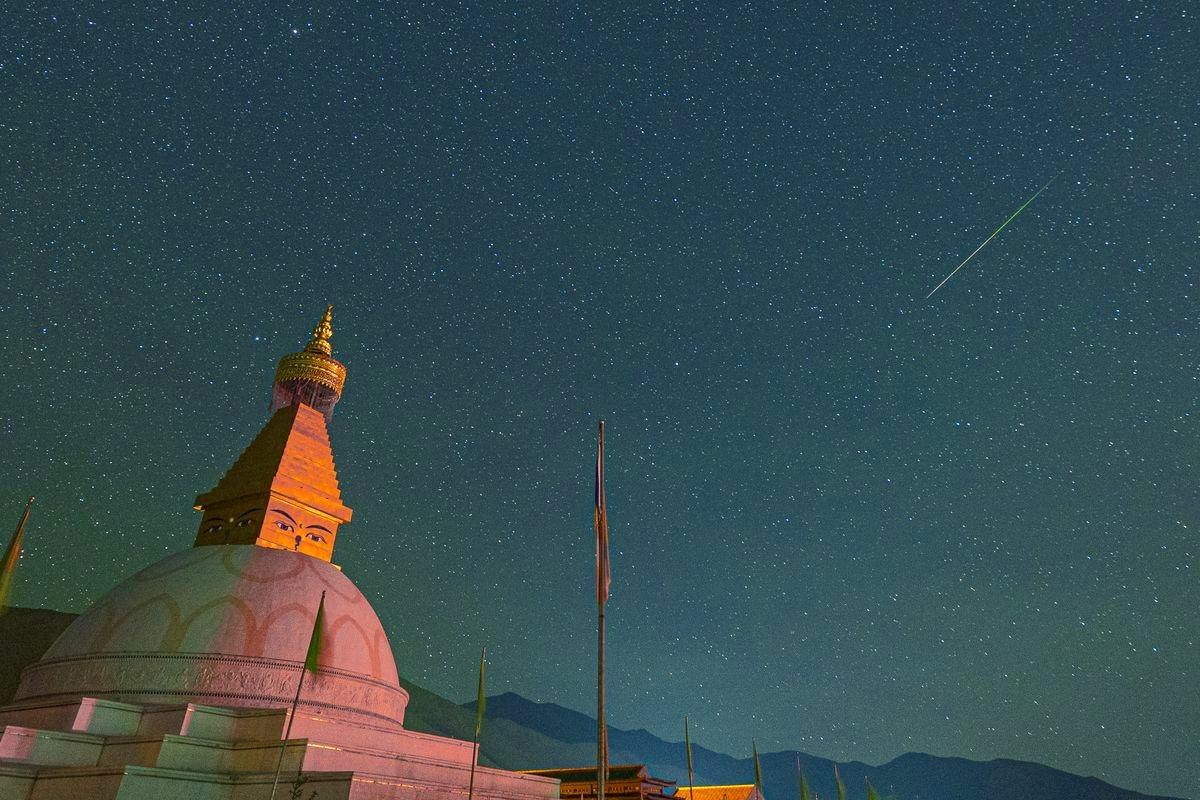meteorite: (899, 185, 1060, 312)
